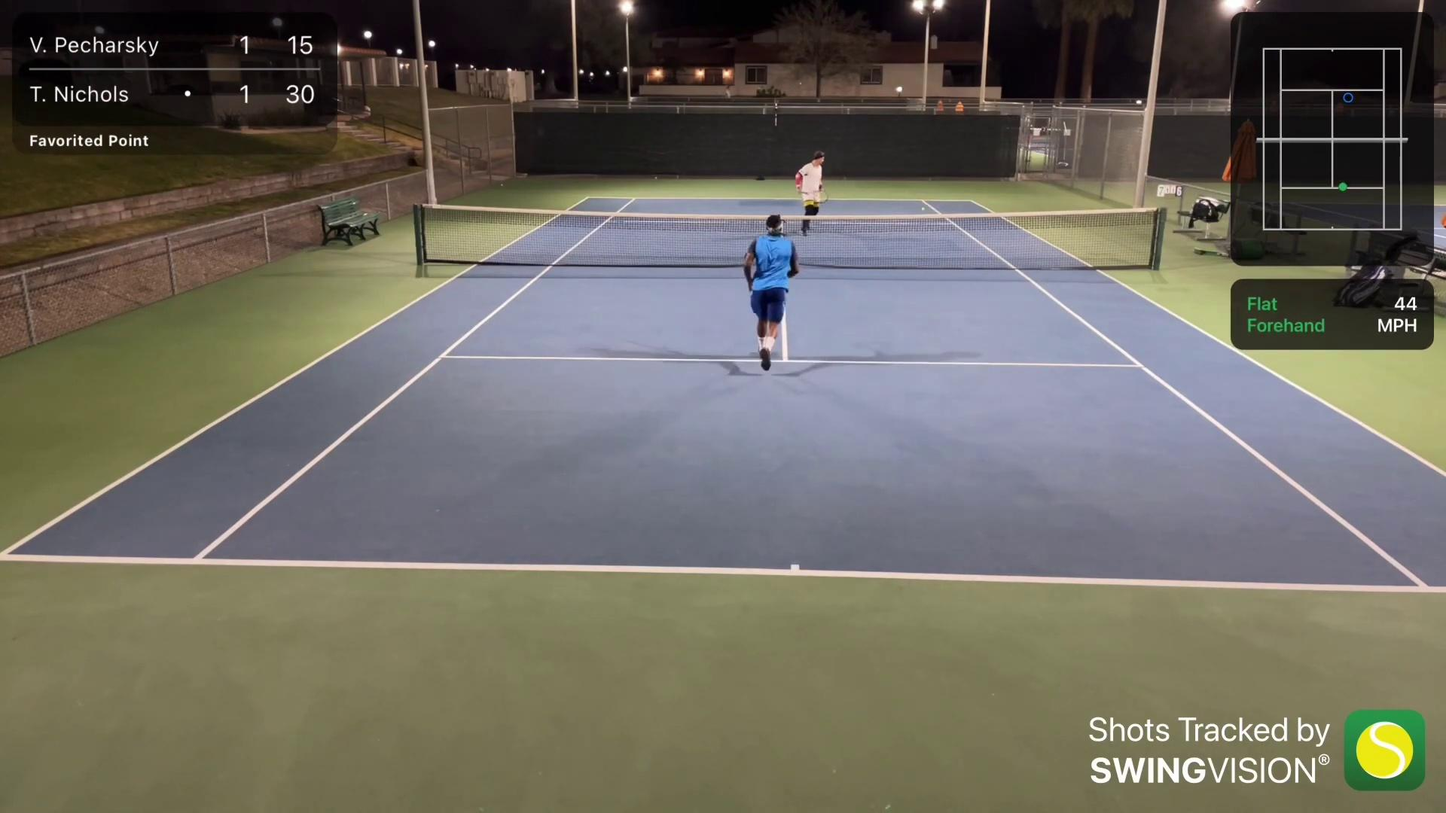ball: (920, 206, 926, 213)
